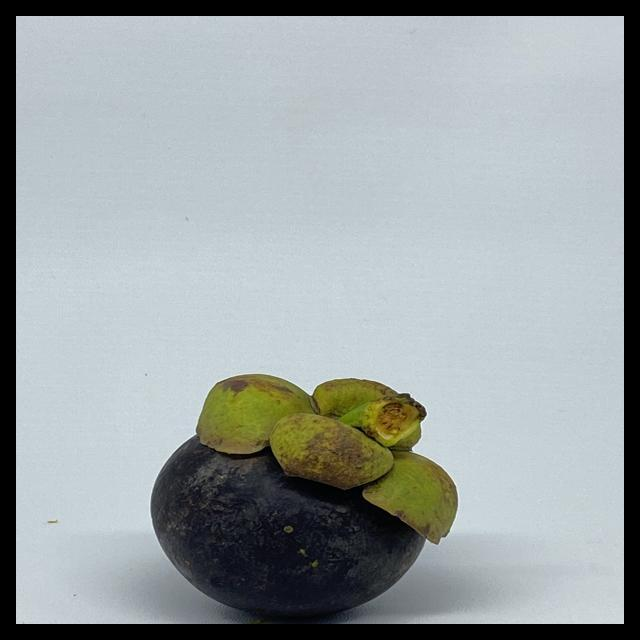mangosteen: (141, 294, 464, 624)
